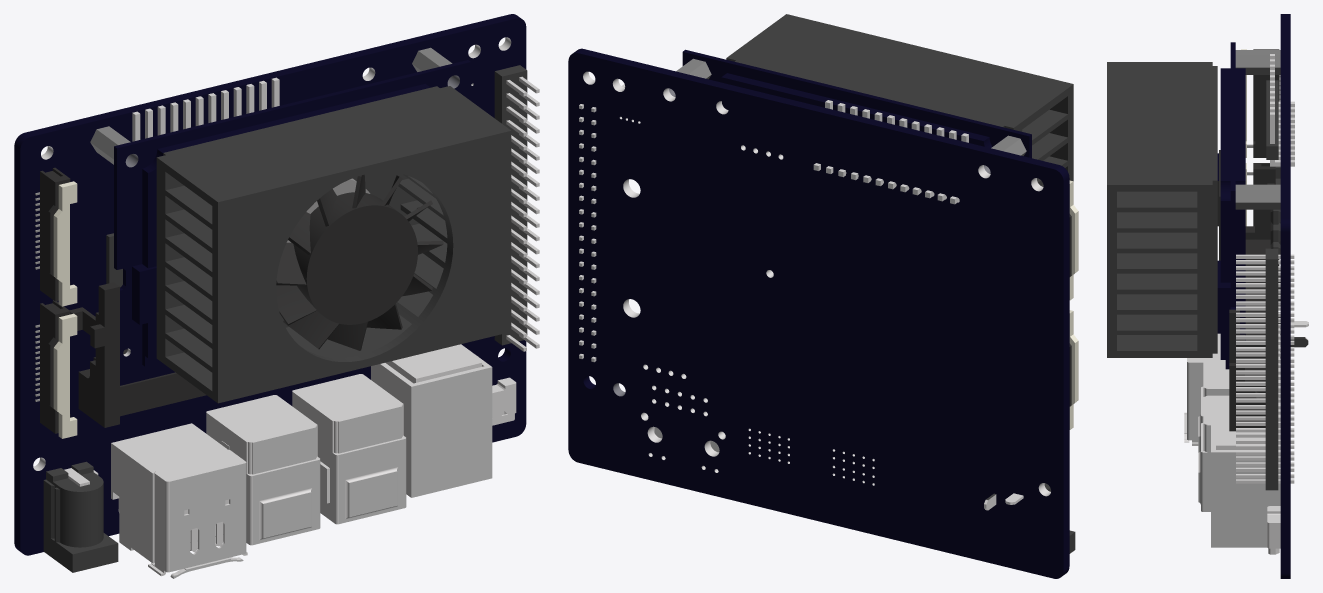
File: Jetson_1__Body1_1_.obj
3 views of the same model, side by side, from view 1: azimuth 30°, elevation 25°; view 2: azimuth 150°, elevation 25°; view 3: azimuth 270°, elevation 25° (orthographic). The views are drawn at different scales.
Visible parts, largest first — view 1: mesh3619, mesh5495, mesh5494, mesh5735, mesh5467, mesh4108, mesh5299, mesh5510, mesh5448, mesh4945, mesh4919, mesh4034 (+38 smaller); view 2: mesh6068, mesh5494, mesh5372, mesh4034, mesh4037, mesh5510, mesh5398, mesh5380, mesh5414; view 3: mesh5494, mesh5556, mesh4107, mesh4035, mesh4395, mesh4034, mesh5536, mesh5543, mesh5549, mesh5552, mesh5558, mesh5534 (+28 smaller).
Part boxes in pixels (left/top/right/bottom): mesh3619: left=20, top=18, right=526, bottom=555; mesh5495: left=218, top=131, right=511, bottom=403; mesh5494: left=157, top=86, right=510, bottom=202; mesh5735: left=306, top=205, right=417, bottom=324; mesh5467: left=117, top=62, right=470, bottom=385; mesh4108: left=411, top=367, right=492, bottom=497; mesh5299: left=170, top=463, right=244, bottom=571; mesh5510: left=156, top=158, right=217, bottom=402; mesh5448: left=94, top=286, right=206, bottom=427; mesh4945: left=111, top=423, right=246, bottom=481; mesh4919: left=111, top=443, right=152, bottom=562; mesh4034: left=25, top=14, right=515, bottom=136; mesh6068: left=568, top=53, right=1063, bottom=578; mesh5494: left=727, top=14, right=1073, bottom=127; mesh5372: left=682, top=52, right=1029, bottom=157; mesh4034: left=578, top=49, right=1058, bottom=168; mesh4037: left=1063, top=178, right=1069, bottom=570; mesh5510: left=1013, top=84, right=1073, bottom=185; mesh5398: left=721, top=73, right=989, bottom=141; mesh5380: left=683, top=49, right=1031, bottom=136; mesh5414: left=720, top=77, right=984, bottom=146; mesh5494: left=1107, top=62, right=1217, bottom=184; mesh5556: left=1107, top=185, right=1212, bottom=357; mesh4107: left=1211, top=452, right=1280, bottom=547; mesh4035: left=1280, top=232, right=1290, bottom=573; mesh4395: left=1265, top=259, right=1278, bottom=490; mesh4034: left=1280, top=15, right=1290, bottom=218; mesh5536: left=1117, top=191, right=1197, bottom=207; mesh5543: left=1117, top=232, right=1197, bottom=248; mesh5549: left=1117, top=273, right=1197, bottom=289; mesh5552: left=1117, top=314, right=1197, bottom=330; mesh5558: left=1117, top=212, right=1197, bottom=228; mesh5534: left=1117, top=335, right=1197, bottom=350.
Bounding box in the file's own units: 0.1 × 0.0802 × 0.0402.
